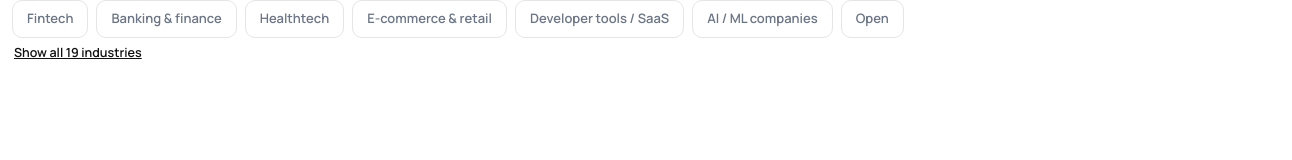
Test: IndustryPicker and StagePicker › collapses industries to the common ones and offers all of them
Expected: the button "Fintech" is shown, [12,0,88,38]
Expected: the button "Open" is shown, [841,0,904,38]
Click the button "Show all 19 industries": [78, 53] box [12,44,144,62]
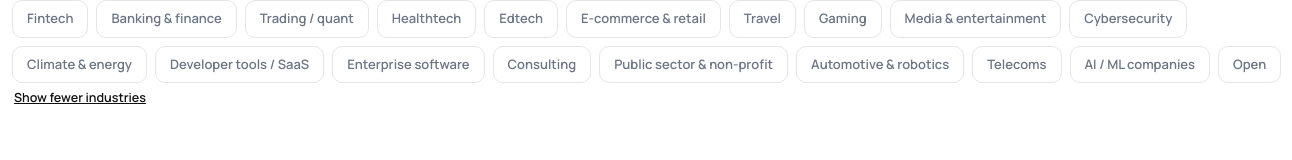
Expected: the button "Telecoms" is shown, [972,46,1062,83]
